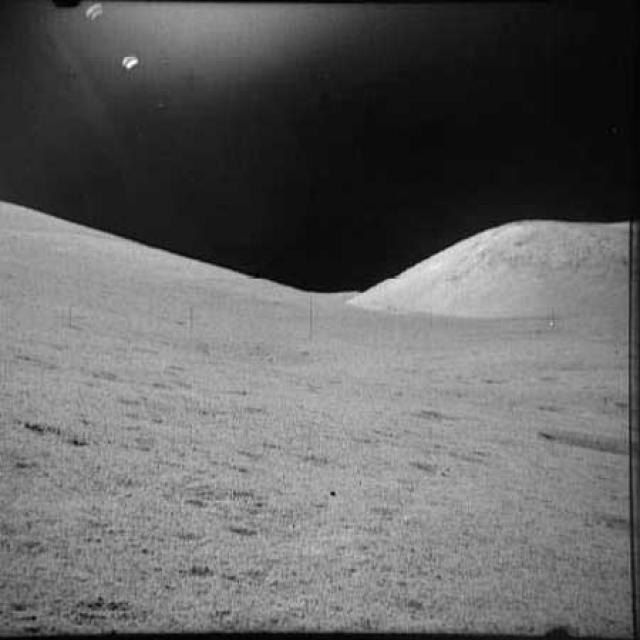crater: (537, 418, 636, 466)
